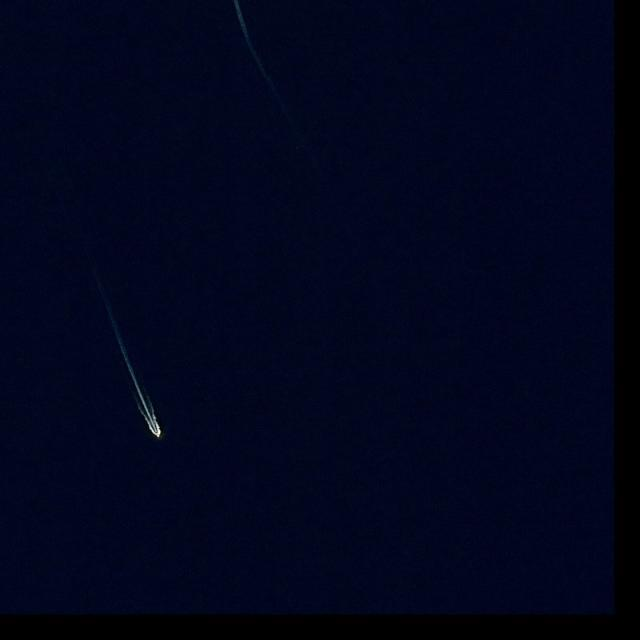ship: (140, 406, 165, 440), (138, 398, 152, 410)
